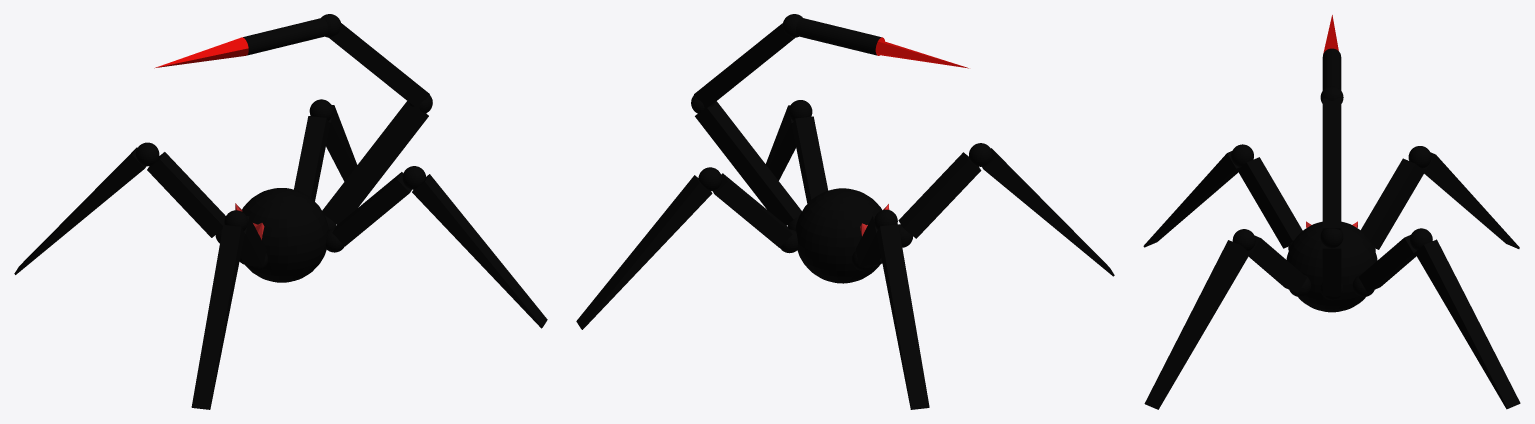
File: EnemyScorpion.fbx
3 views of the same model, side by side, from view 1: azimuth 30°, elevation 25°; view 2: azimuth 150°, elevation 25°; view 3: azimuth 270°, elevation 25° (orthographic). The views are drawn at different scales.
Visible parts, largest first — view 1: Sphere, Cube.005, TailPart_2, Cube.001, Cylinder, Cube.006, TailPart_1, Cube.007, Cube, Cube.002, Cube.003, Cube.004; view 2: Sphere, Cube.007, TailPart_2, Cube.003, Cube.004, Cylinder, TailPart_1, Cube.005, Cube.002, Cube, Cube.001, Cube.006; view 3: Sphere, Cube.001, Cube.003, TailPart_1, Cube.004, Cube.006, Cube.007, Cube.005, Cube, Cube.002, Cylinder, TailPart_2 (+5 smaller).
Boxes of the visible parts, x1,y1,x2,y2 form: Sphere: (235, 188, 328, 282); Cube.005: (191, 225, 244, 409); TailPart_2: (322, 101, 428, 224); Cube.001: (412, 174, 547, 328); Cylinder: (154, 18, 328, 68); Cube.006: (147, 152, 225, 237); TailPart_1: (329, 23, 429, 108); Cube.007: (14, 147, 146, 274); Cube: (332, 172, 411, 246); Cube.002: (294, 116, 329, 201); Cube.003: (326, 104, 357, 181); Cube.004: (240, 216, 266, 267); Sphere: (795, 188, 889, 283); Cube.007: (876, 224, 929, 409); TailPart_2: (695, 101, 801, 225); Cube.003: (576, 175, 712, 329); Cube.004: (898, 152, 981, 238); Cylinder: (796, 18, 968, 68); TailPart_1: (694, 23, 794, 107); Cube.005: (982, 148, 1114, 276); Cube.002: (712, 173, 792, 247); Cube: (792, 116, 828, 203); Cube.001: (766, 105, 795, 180); Cube.006: (856, 215, 881, 266); Sphere: (1286, 221, 1377, 312); Cube.001: (1144, 240, 1250, 409); Cube.003: (1415, 239, 1520, 409); TailPart_1: (1322, 98, 1341, 230); Cube.004: (1237, 157, 1302, 248); Cube.006: (1360, 158, 1424, 249); Cube.007: (1422, 152, 1519, 248); Cube.005: (1143, 151, 1240, 247); Cube: (1248, 235, 1306, 293); Cube.002: (1358, 235, 1416, 292); Cylinder: (1322, 15, 1341, 90); TailPart_2: (1322, 244, 1341, 295).
Size of the model in its own units: 8.21 by 8.68 by 6.31.
